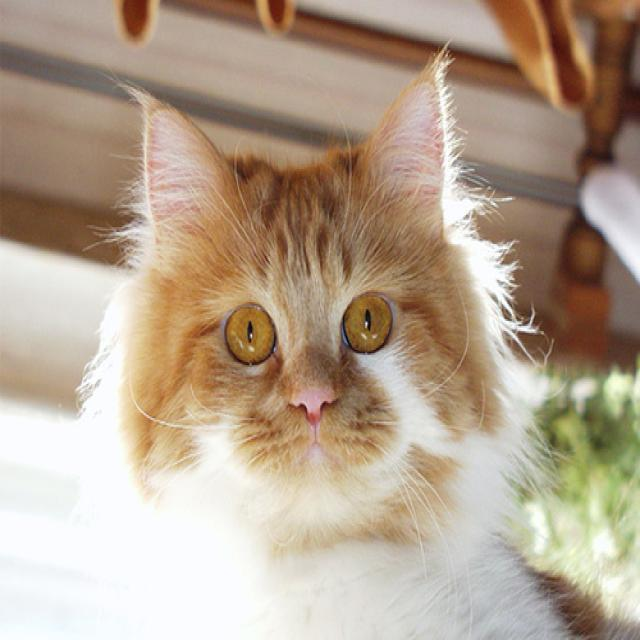left eye: (339, 288, 394, 355)
